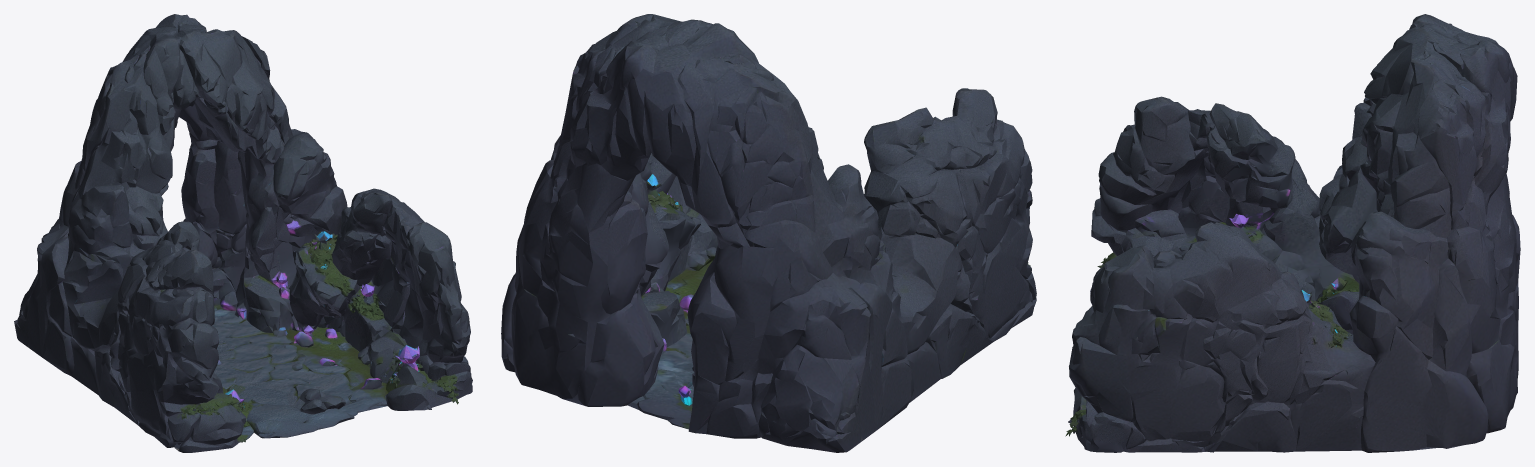
The model's file is entradaGruta.glb.
3 renders of one model, left to right at view 1: azimuth 30°, elevation 25°; view 2: azimuth 150°, elevation 25°; view 3: azimuth 270°, elevation 25°, orthographic. The views are drawn at different scales.
Bounding box in the file's own units: 1.69 × 1.57 × 1.89.
1 material, 1 textured.
